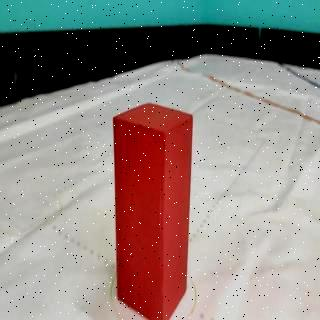redbox: (111, 101, 192, 320)
